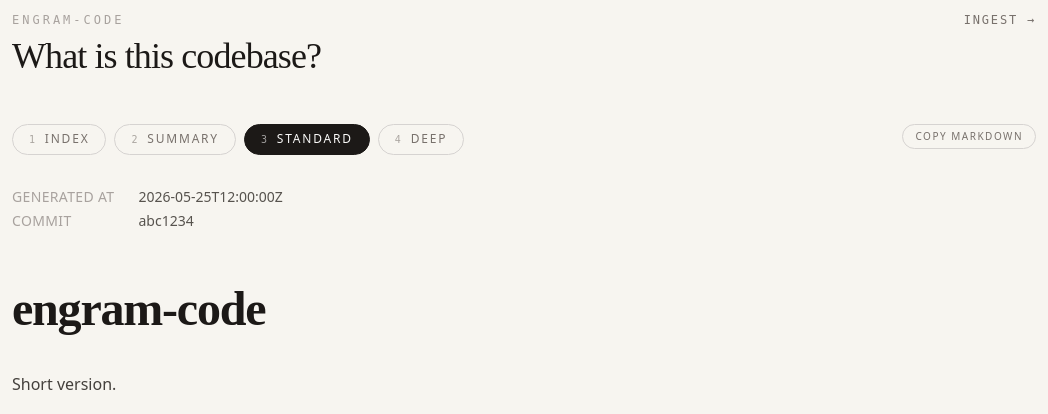
Test: HomeCard › refetches at the new LoD when the switcher is clicked
Click the radio button with test id "lod-deep".
click(421, 140)  # box [378, 124, 464, 155]
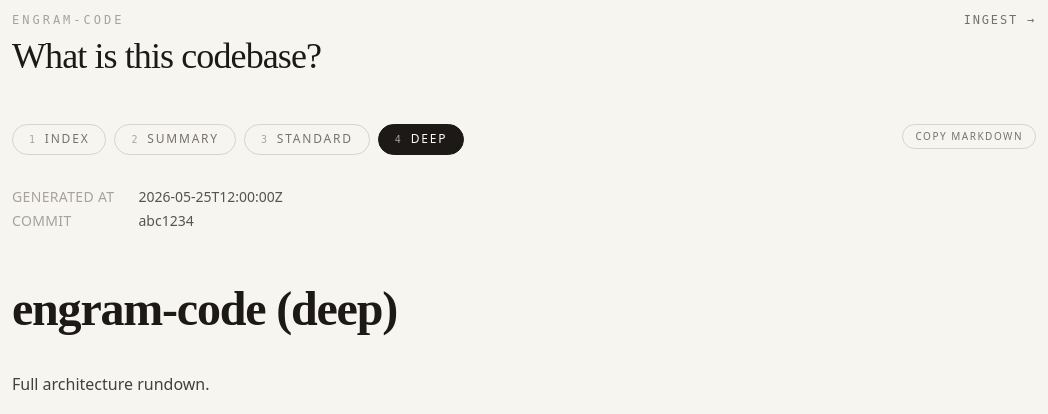
Now the heading "engram-code (deep)" is shown, box [12, 282, 397, 335]
